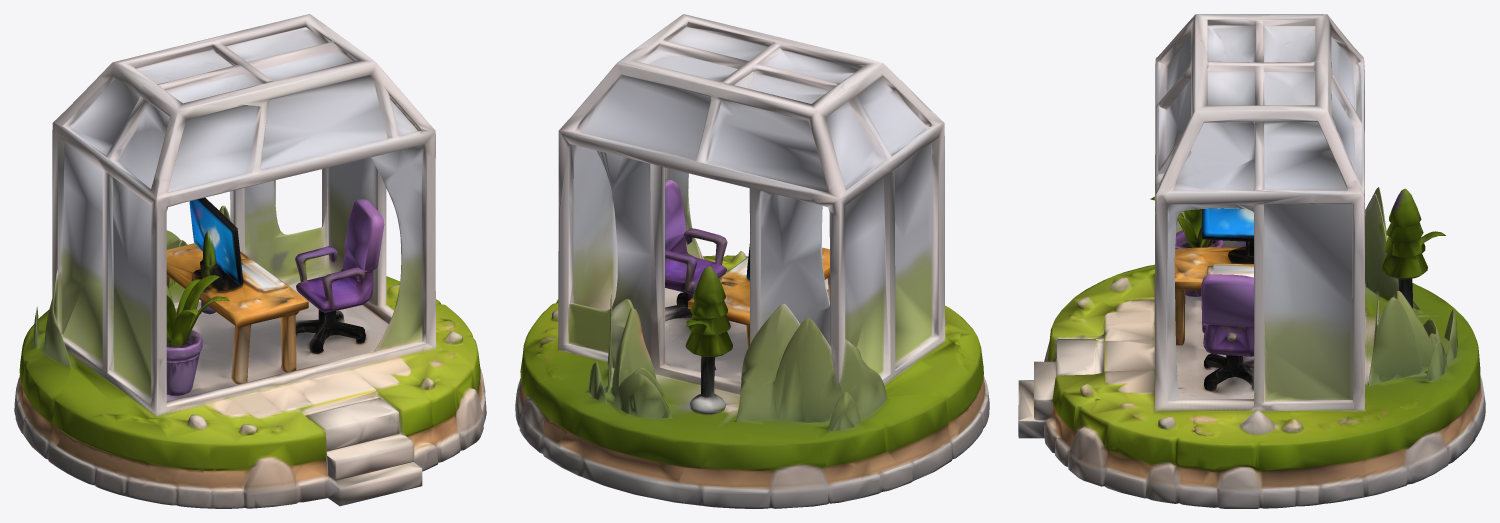
File: ux_island.glb
3 renders of one model, left to right at view 1: azimuth 30°, elevation 25°; view 2: azimuth 150°, elevation 25°; view 3: azimuth 270°, elevation 25°, orthographic.
Visible parts, largest first — view 1: node_0; view 2: node_0; view 3: node_0.
Part boxes in pixels (<box>): node_0: <box>14,14,486,508</box>; node_0: <box>515,14,989,508</box>; node_0: <box>1018,14,1485,508</box>.
Bounding box in the file's own units: 0.9081 × 0.7488 × 0.9089.
1 material, 1 textured.
